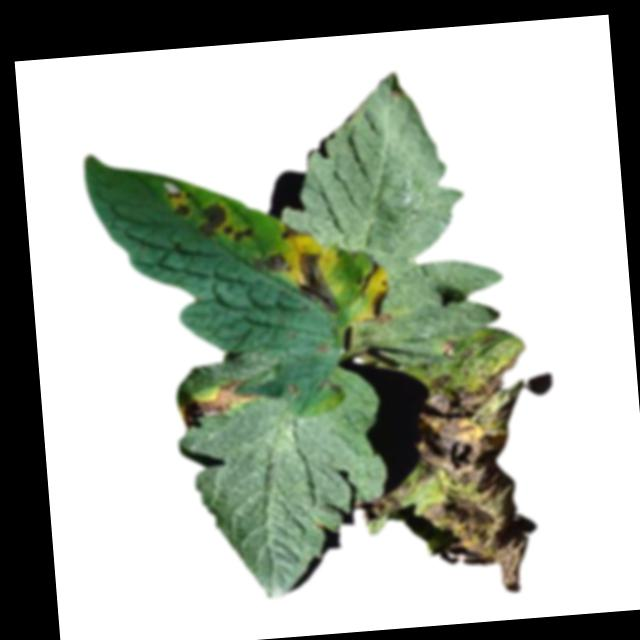Early_blight: (340, 324, 542, 605), (178, 374, 271, 432), (293, 246, 341, 317), (204, 202, 256, 247), (361, 281, 396, 328), (252, 252, 288, 277), (164, 189, 191, 222), (278, 221, 309, 241)
